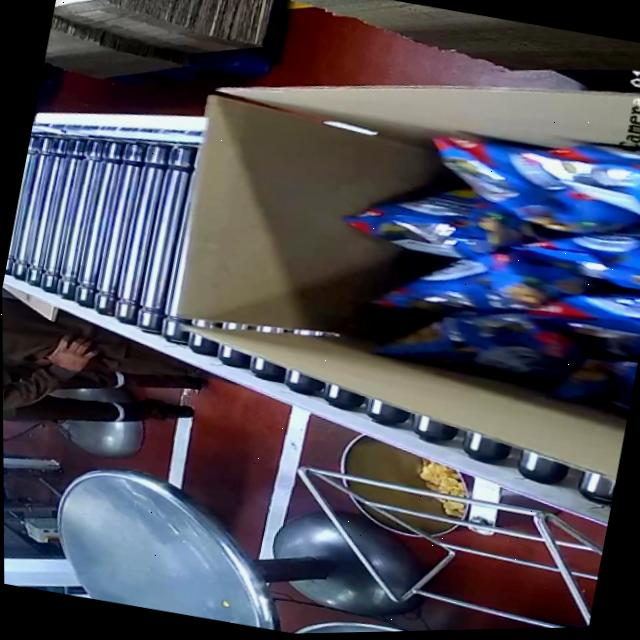PAPRIKA: (328, 96, 640, 405)
